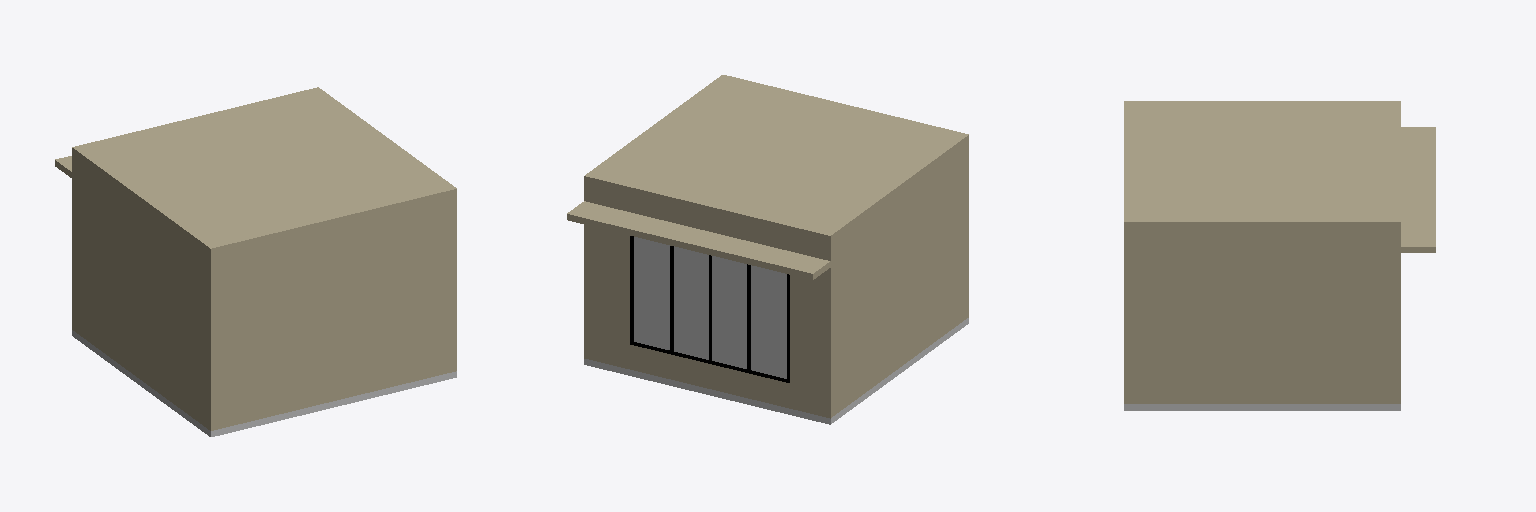
Rendered from Modern_TV_Rack-01.obj.
3 renders of one model, left to right at view 1: azimuth 30°, elevation 25°; view 2: azimuth 150°, elevation 25°; view 3: azimuth 270°, elevation 25°, orthographic.
Visible parts, largest first — view 1: Wall_Left_Cube.054, Ceiling_Cube.039, Wall_Front_Cube.056, Flooring_Cube.053, Wall_Back_Cube.076, Wall_Right_Cube.040; view 2: Ceiling_Cube.039, Wall_Front_Cube.056, Wall_Right_Cube.040, Window_Cube.048, Window_Awning_Cube.087, Flooring_Cube.053, Wall_Back_Cube.076, Wall_Left_Cube.054; view 3: Wall_Back_Cube.076, Ceiling_Cube.039, Window_Awning_Cube.087, Flooring_Cube.053.
Part boxes in pixels (left/top/right/bottom): Wall_Left_Cube.054: left=207, top=197, right=450, bottom=430; Ceiling_Cube.039: left=72, top=87, right=456, bottom=254; Wall_Front_Cube.056: left=76, top=157, right=206, bottom=427; Flooring_Cube.053: left=72, top=330, right=456, bottom=436; Wall_Back_Cube.076: left=451, top=195, right=456, bottom=372; Wall_Right_Cube.040: left=72, top=154, right=75, bottom=331; Ceiling_Cube.039: left=584, top=75, right=968, bottom=241; Wall_Front_Cube.056: left=834, top=144, right=965, bottom=415; Wall_Right_Cube.040: left=590, top=184, right=833, bottom=418; Window_Cube.048: left=630, top=236, right=789, bottom=382; Window_Awning_Cube.087: left=567, top=201, right=830, bottom=279; Flooring_Cube.053: left=584, top=318, right=968, bottom=424; Wall_Back_Cube.076: left=584, top=182, right=589, bottom=359; Wall_Left_Cube.054: left=966, top=141, right=968, bottom=318; Wall_Back_Cube.076: left=1124, top=228, right=1400, bottom=403; Ceiling_Cube.039: left=1124, top=101, right=1400, bottom=227; Window_Awning_Cube.087: left=1401, top=127, right=1435, bottom=252; Flooring_Cube.053: left=1124, top=404, right=1400, bottom=410.
Bounding box in the file's own units: 4.1 × 3 × 4.5.